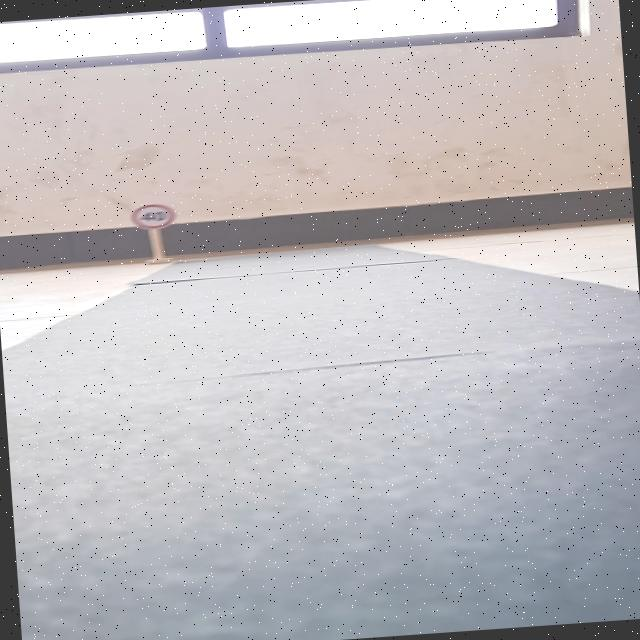Speed40: (124, 195, 186, 232)
